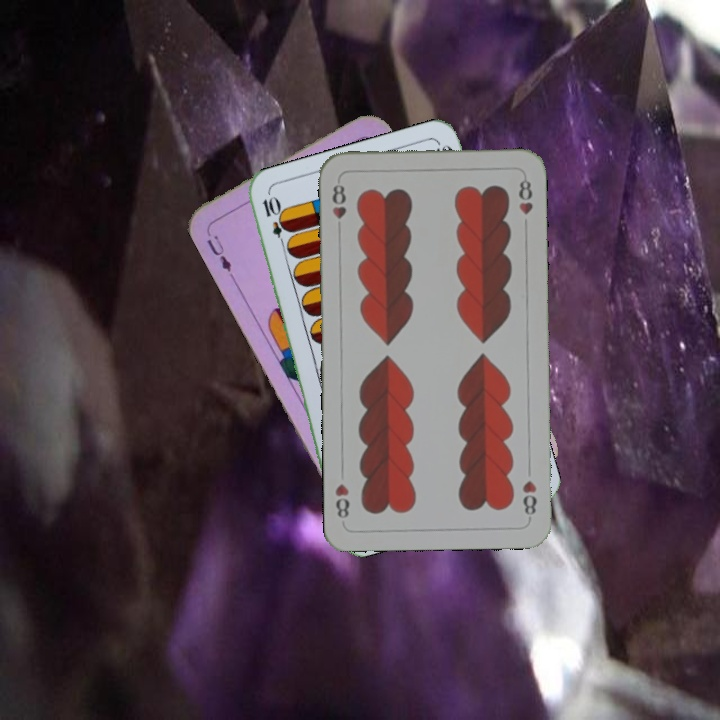E10: (258, 193, 290, 251)
EU: (202, 231, 234, 274)
H8: (327, 180, 349, 235), (518, 476, 539, 522)
